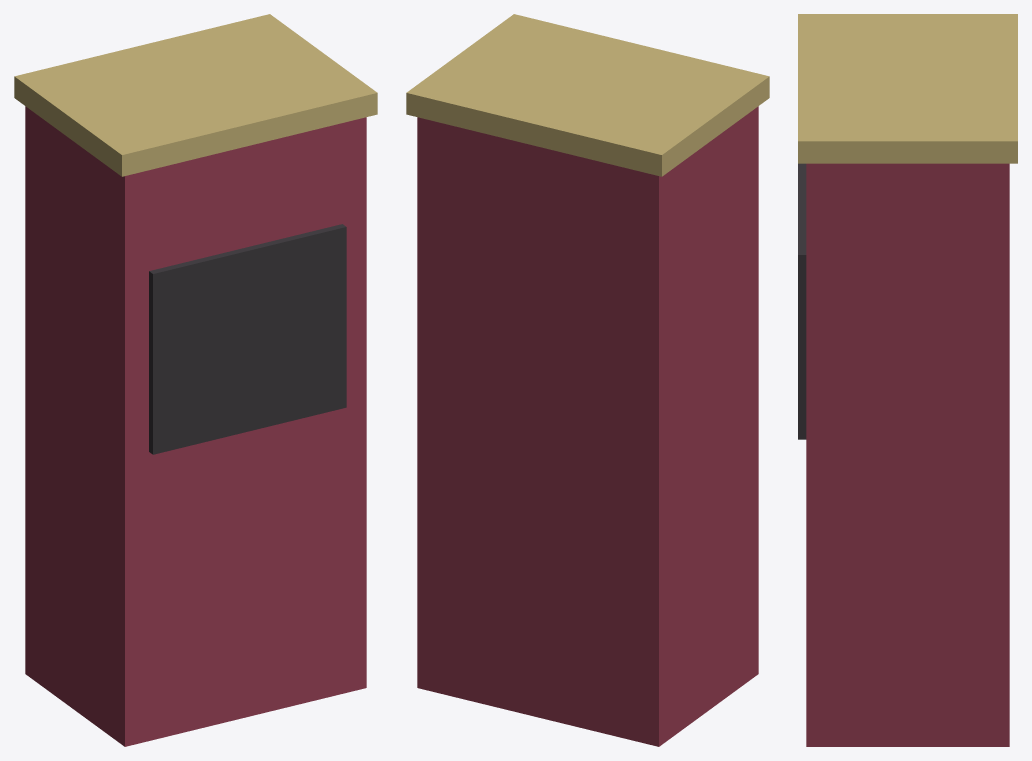
File: cabinet.glb
The picture shows the model from 3 angles, left to right: view 1: azimuth 30°, elevation 25°; view 2: azimuth 150°, elevation 25°; view 3: azimuth 270°, elevation 25°; orthographic projection. The views are drawn at different scales.
Parts seen in each view (by area): view 1: cabinet_0, cabinet_1, cabinet_2; view 2: cabinet_0, cabinet_2; view 3: cabinet_0, cabinet_2, cabinet_1.
Boxes of the visible parts, box(x1,y1,x2,y2) form: cabinet_0: box(25, 106, 366, 746); cabinet_1: box(149, 224, 346, 454); cabinet_2: box(14, 14, 377, 176); cabinet_0: box(417, 106, 758, 746); cabinet_2: box(406, 14, 769, 176); cabinet_0: box(806, 163, 1009, 746); cabinet_2: box(798, 14, 1017, 163); cabinet_1: box(798, 163, 806, 439).
Bounding box in the file's own units: 0.74 × 1.65 × 0.54.
